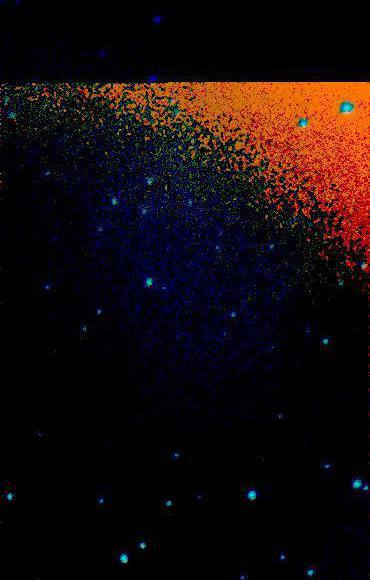star: (249, 448, 279, 478)
